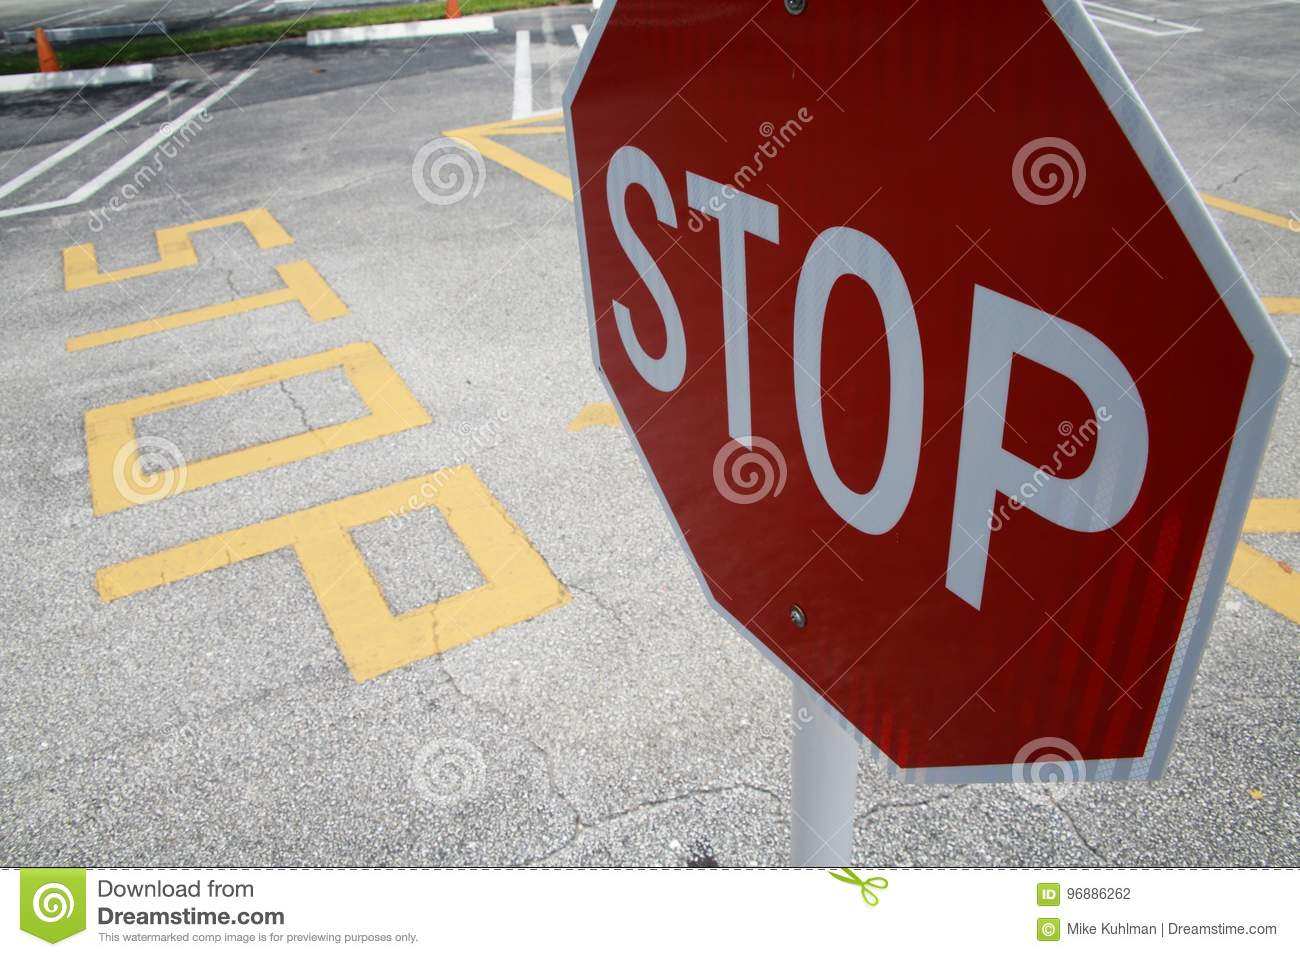stopsign: (566, 1, 1292, 792)
